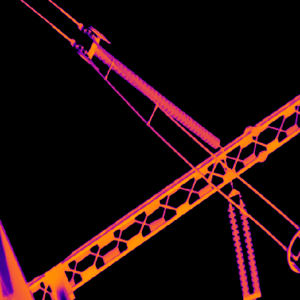insulator: (96, 44, 220, 150), (239, 198, 260, 293), (227, 201, 248, 295)
